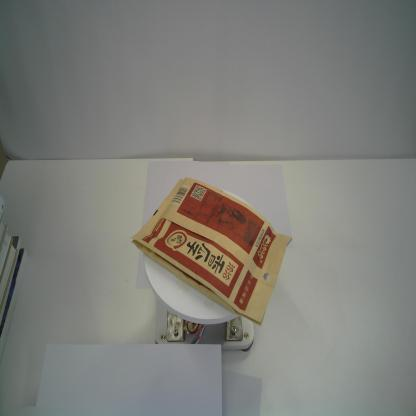Dried Food: (129, 174, 293, 328)
